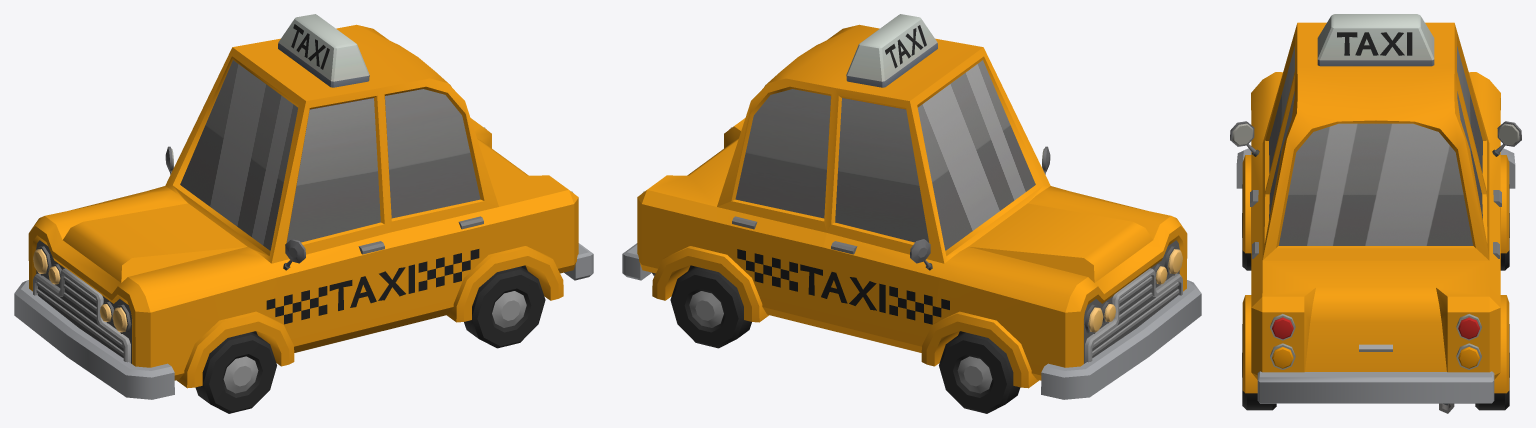
File: Taxi_5.fbx
3 views of the same model, side by side, from view 1: azimuth 30°, elevation 25°; view 2: azimuth 150°, elevation 25°; view 3: azimuth 270°, elevation 25° (orthographic). The views are drawn at different scales.
Visible parts, largest first — view 1: Taxi_5, FL, RL; view 2: Taxi_5, FR, RR; view 3: Taxi_5, RL, RR.
Part boxes in pixels (bbox=[...]): Taxi_5: bbox=[14, 14, 593, 399]; FL: bbox=[195, 332, 276, 413]; RL: bbox=[464, 266, 545, 348]; Taxi_5: bbox=[622, 14, 1201, 399]; FR: bbox=[939, 332, 1020, 413]; RR: bbox=[670, 266, 751, 348]; Taxi_5: bbox=[1230, 14, 1521, 413]; RL: bbox=[1242, 324, 1276, 410]; RR: bbox=[1475, 324, 1509, 410].
Size of the model in its own units: 3.38 by 2.07 by 1.7.
